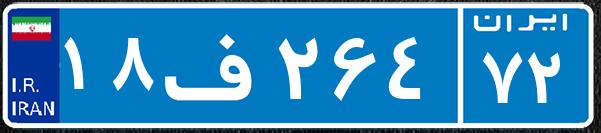1: (57, 26, 110, 107)
2: (273, 28, 330, 110), (525, 38, 570, 115)
4: (385, 28, 445, 110)
6: (330, 28, 385, 110)
7: (475, 38, 525, 113)
8: (110, 28, 158, 105)
ف: (158, 15, 273, 115)
